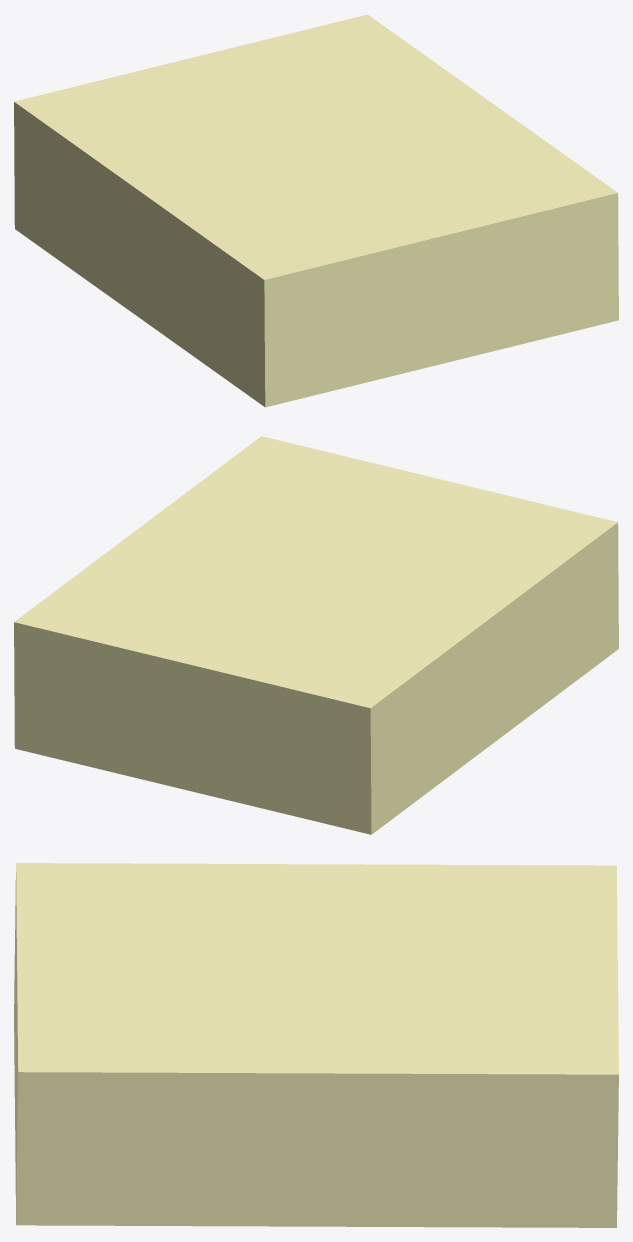
The model's file is shop_096.glb.
The picture shows the model from 3 angles, top to bottom: view 1: azimuth 30°, elevation 25°; view 2: azimuth 150°, elevation 25°; view 3: azimuth 270°, elevation 25°; orthographic projection. The views are drawn at different scales.
Visible parts, largest first — view 1: shop_096; view 2: shop_096; view 3: shop_096.
Boxes of the visible parts, left/top/right/bottom form: shop_096: left=14, top=14, right=618, bottom=407; shop_096: left=14, top=436, right=618, bottom=834; shop_096: left=14, top=863, right=618, bottom=1227.
Bounding box in the file's own units: 0.0666 × 0.0232 × 0.081.
Materials: 1 (1 with a texture image).
